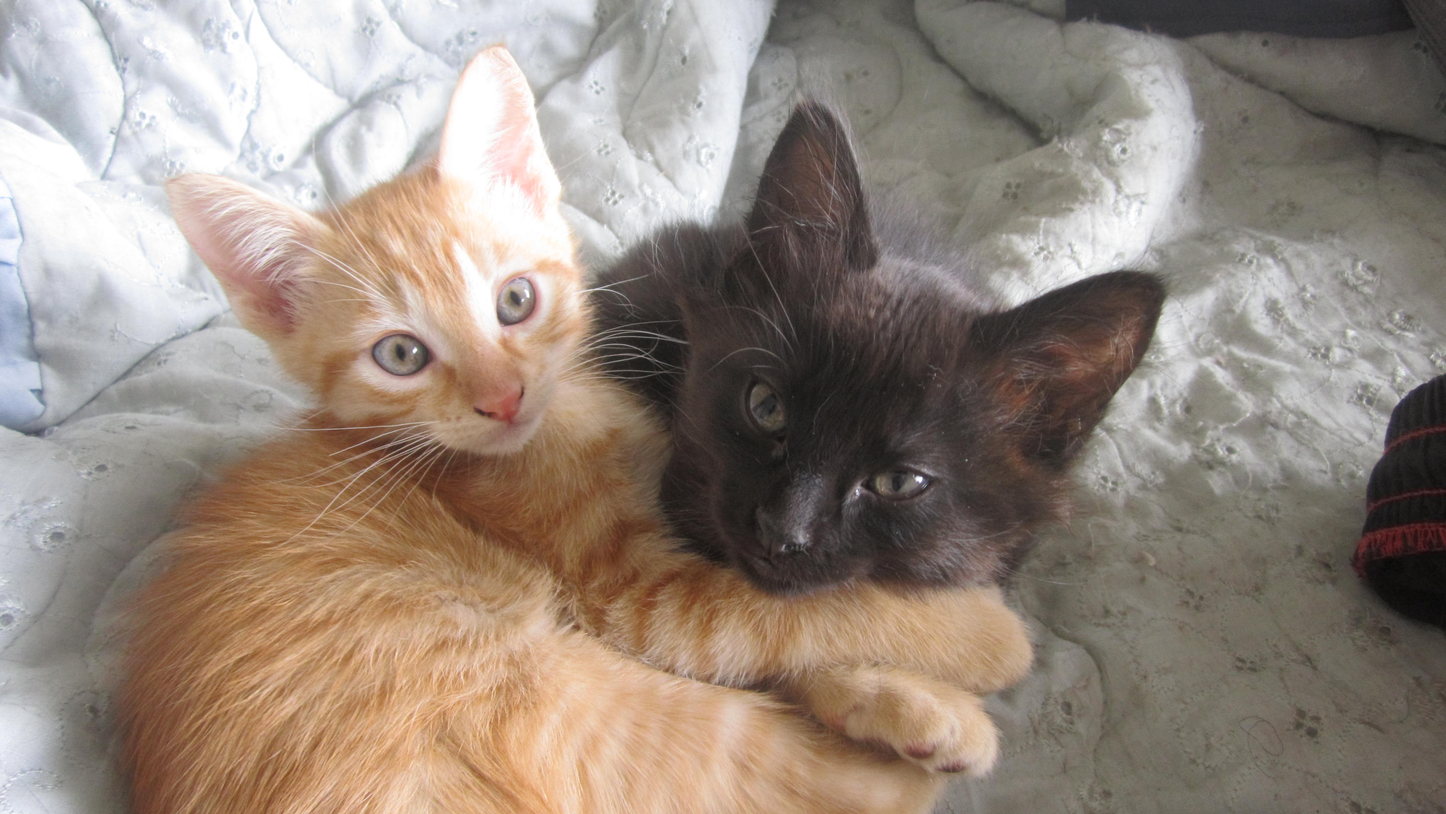cat: (102, 42, 1036, 813), (571, 79, 1168, 600)
